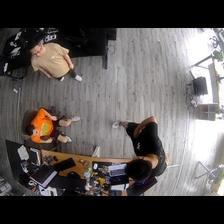normal: (111, 115, 168, 183), (27, 38, 82, 83), (26, 106, 79, 145)
